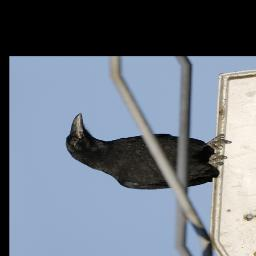Crow: (56, 93, 242, 204)
